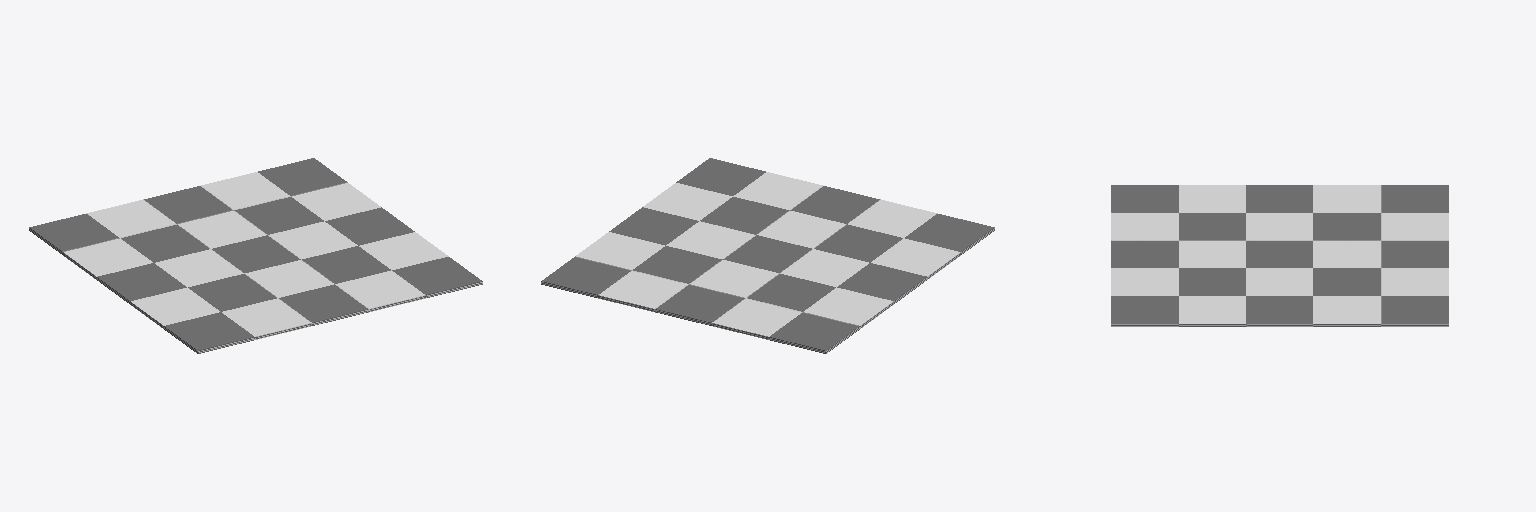
3 renders of one model, left to right at view 1: azimuth 30°, elevation 25°; view 2: azimuth 150°, elevation 25°; view 3: azimuth 270°, elevation 25°, orthographic.
Parts seen in each view (by area): view 1: Cube; view 2: Cube; view 3: Cube.
Boxes of the visible parts, <box> form: Cube: <box>29,158,482,353</box>; Cube: <box>541,158,994,353</box>; Cube: <box>1111,185,1448,326</box>.
Size of the model in its own units: 25.07 by 0.2887 by 25.68.
1 materials, 1 textured.